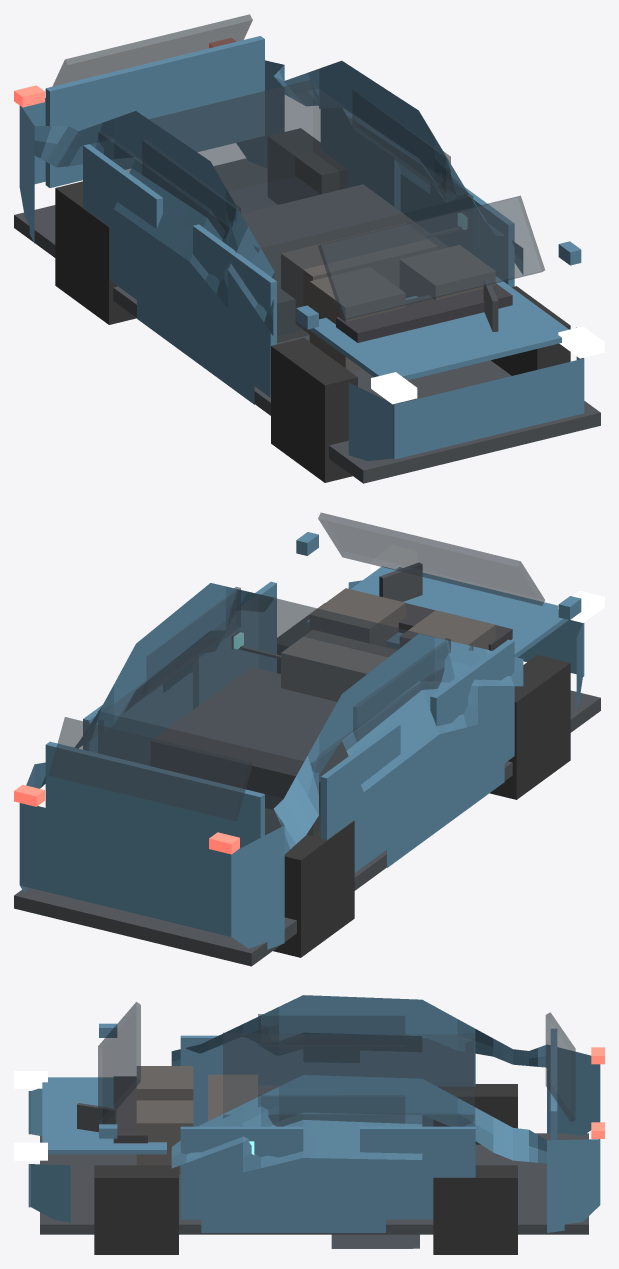
The model's file is suv_lod2.glb.
The picture shows the model from 3 angles, top to bottom: view 1: azimuth 30°, elevation 25°; view 2: azimuth 150°, elevation 25°; view 3: azimuth 270°, elevation 25°; orthographic projection. The views are drawn at different scales.
Visible parts, largest first — view 1: body_mesh, cab_mesh, windshield, liftgate_mesh, trim_mesh, frunk_mesh, tire_fr, wheel_well_mesh, tire_rr, seat_rear, door_rr_mesh, rear_glass (+12 smaller); view 2: body_mesh, cab_mesh, wheel_well_mesh, liftgate_mesh, rear_glass, trim_mesh, windshield, tire_rr, tire_fr, door_rr_mesh, frunk_mesh, seat_rear (+12 smaller); view 3: body_mesh, cab_mesh, trim_mesh, tire_fl, door_rl_mesh, tire_rl, frunk_mesh, door_fr_mesh, window_fixed_r, door_fl_mesh, door_rr_mesh, window_fixed_l (+13 smaller).
Part boxes in pixels (<box>): body_mesh: <box>19,60,584,460</box>; cab_mesh: <box>98,80,473,336</box>; windshield: <box>318,195,544,320</box>; liftgate_mesh: <box>45,36,264,187</box>; trim_mesh: <box>14,158,600,483</box>; frunk_mesh: <box>309,276,568,380</box>; tire_fr: <box>271,338,357,482</box>; wheel_well_mesh: <box>241,184,447,342</box>; tire_rr: <box>55,181,136,324</box>; seat_rear: <box>281,223,437,334</box>; door_rr_mesh: <box>83,144,162,299</box>; rear_glass: <box>52,14,252,86</box>; body_mesh: <box>19,580,584,949</box>; cab_mesh: <box>98,595,473,835</box>; wheel_well_mesh: <box>151,667,348,813</box>; liftgate_mesh: <box>45,741,264,848</box>; rear_glass: <box>49,717,252,821</box>; trim_mesh: <box>14,690,600,966</box>; windshield: <box>318,512,544,605</box>; tire_rr: <box>273,814,354,957</box>; tire_fr: <box>490,655,570,799</box>; door_rr_mesh: <box>320,723,400,872</box>; frunk_mesh: <box>306,566,568,657</box>; seat_rear: <box>281,630,396,701</box>; body_mesh: <box>28,995,600,1232</box>; cab_mesh: <box>223,1032,474,1126</box>; trim_mesh: <box>40,1133,588,1234</box>; tire_fl: <box>94,1165,178,1254</box>; door_rl_mesh: <box>360,1126,475,1219</box>; tire_rl: <box>433,1165,517,1254</box>; frunk_mesh: <box>42,1077,166,1154</box>; door_fr_mesh: <box>180,1035,302,1126</box>; window_fixed_r: <box>258,1014,404,1046</box>; door_fl_mesh: <box>180,1126,303,1219</box>; door_rr_mesh: <box>360,1036,475,1126</box>; window_fixed_l: <box>258,1094,404,1126</box>.
Bounding box in the file's own units: 2.19 × 2.07 × 5.21.
